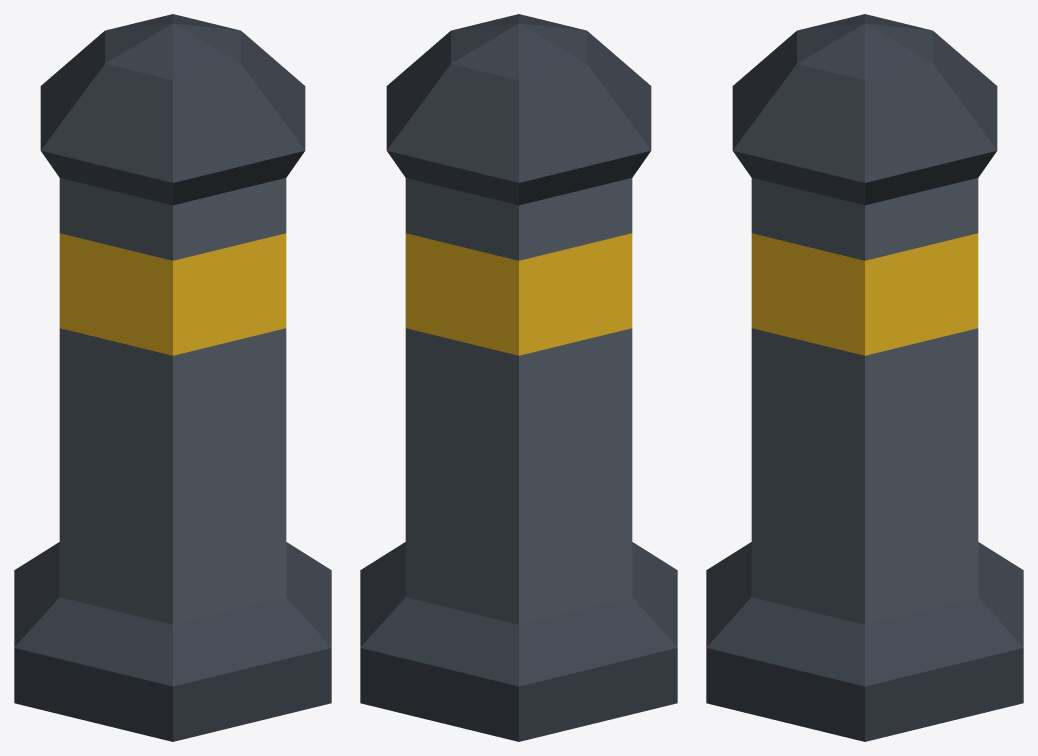
File: bollard.glb
The picture shows the model from 3 angles, left to right: view 1: azimuth 30°, elevation 25°; view 2: azimuth 150°, elevation 25°; view 3: azimuth 270°, elevation 25°; orthographic projection.
Visible parts, largest first — view 1: bollard; view 2: bollard; view 3: bollard.
Part boxes in pixels (left/top/right/bottom): bollard: left=14, top=14, right=331, bottom=741; bollard: left=360, top=14, right=677, bottom=741; bollard: left=706, top=14, right=1023, bottom=741.
Bounding box in the file's own units: 0.042 × 0.081 × 0.0364.
